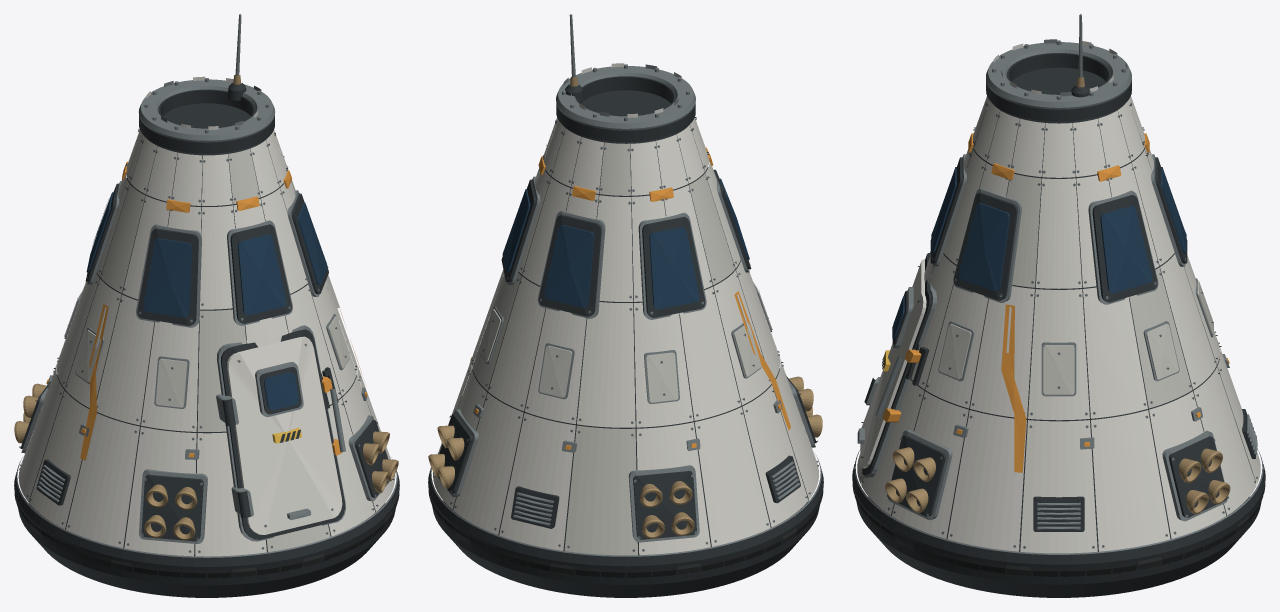
The model's file is explorer_1.glb.
3 views of the same model, side by side, from view 1: azimuth 30°, elevation 25°; view 2: azimuth 150°, elevation 25°; view 3: azimuth 270°, elevation 25° (orthographic). The views are drawn at different scales.
Visible parts, largest first — view 1: Explorer_1_Exterior; view 2: Explorer_1_Exterior; view 3: Explorer_1_Exterior.
Boxes of the visible parts, x1,y1,x2,y2 form: Explorer_1_Exterior: [14, 14, 399, 597]; Explorer_1_Exterior: [428, 14, 823, 597]; Explorer_1_Exterior: [852, 14, 1265, 597].
Size of the model in its own units: 1.9 by 2.73 by 1.9.
